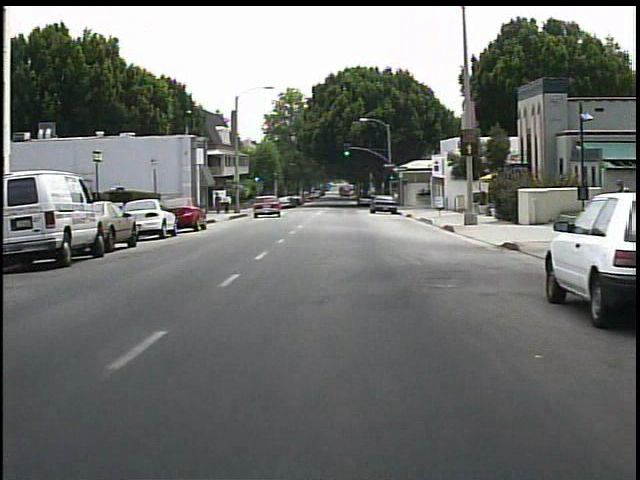person: (213, 193, 225, 217), (223, 194, 234, 216)
